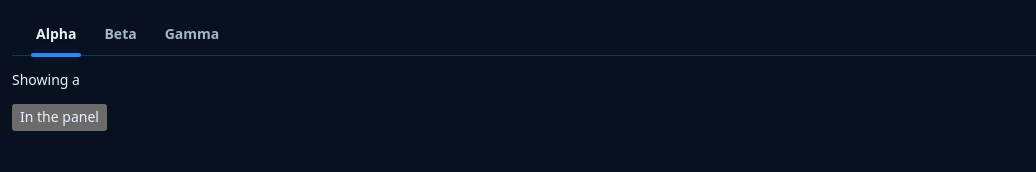
Test case: Tabs › selects a tab on click
This screenshot has width=1036, height=172.
Step 1. Click the tab "Gamma" → x=192, y=34, box [153,12,231,56]
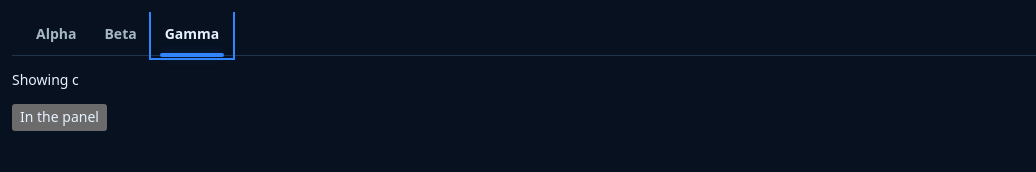
Now the text "Showing c" is shown, box [12,70,79,89]
